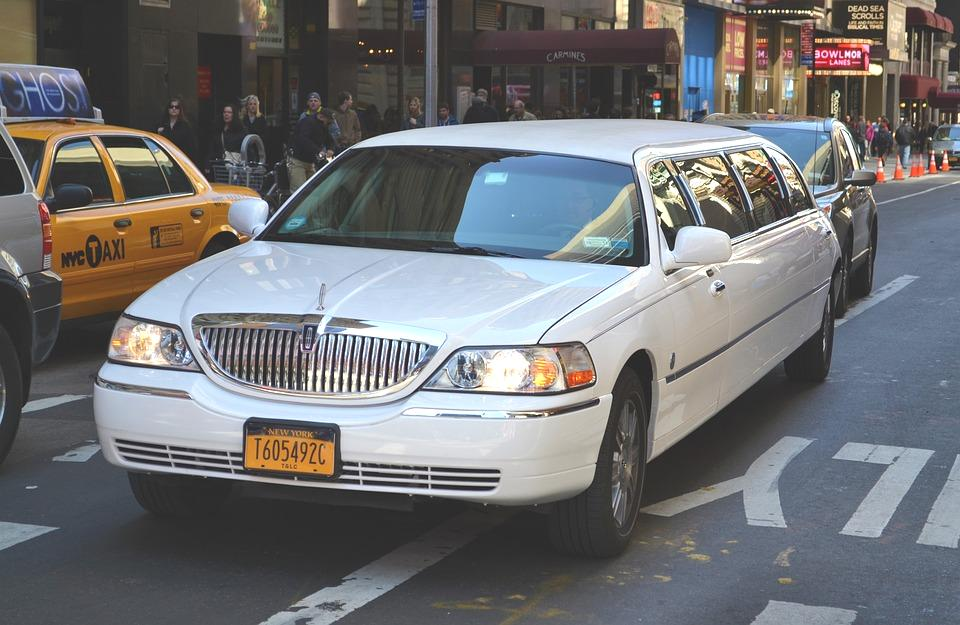lincoln: (313, 281, 331, 310)
